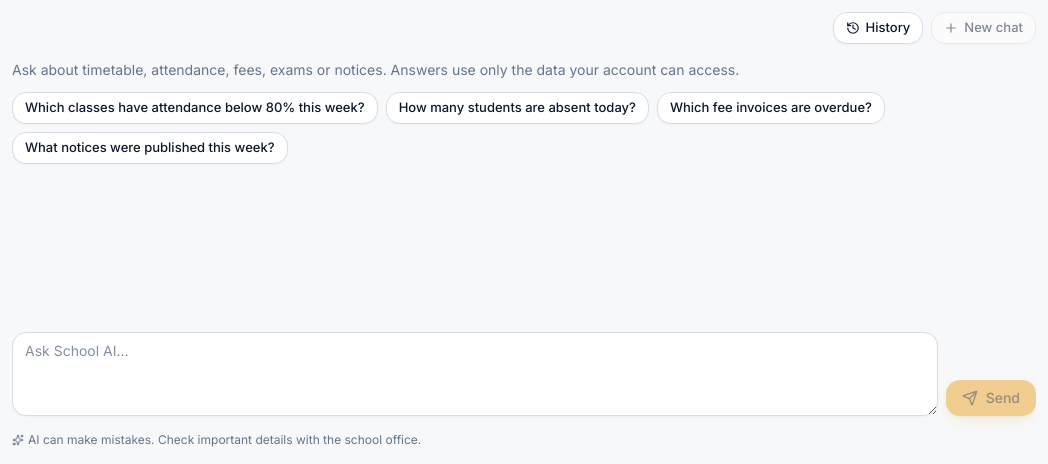
Scenario: Ask School AI answering from the guide › answers a how-to question from the documentation, with no AI request
This screenshot has width=1048, height=464.
Type "How do I add a student?" into the text box named "Message" at (475, 374), box [12, 332, 938, 416]
Then press Enter
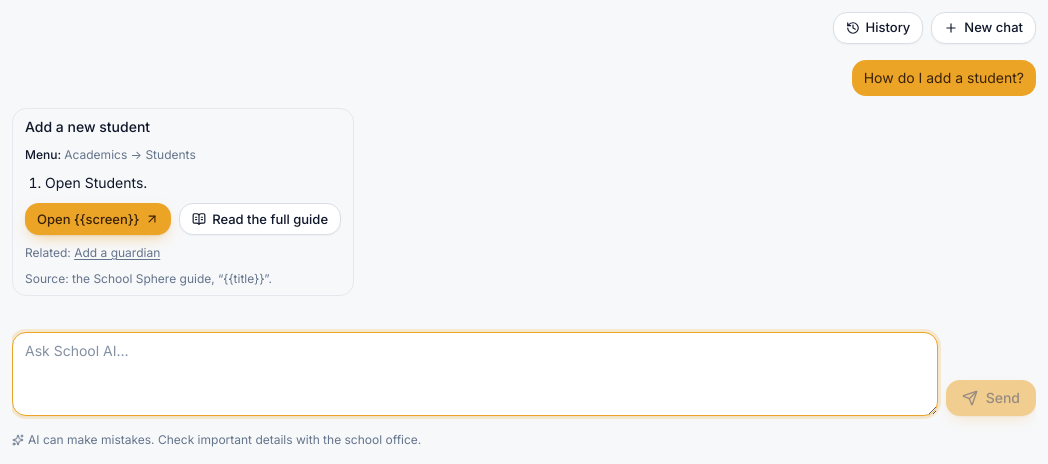
Now the list item "Open Students." is shown, box [45, 174, 147, 191]
Now the element showing "Menu: Academics → Students" is shown, box [25, 147, 196, 162]
